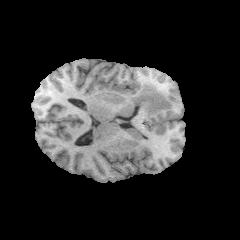glioma: (133, 85, 170, 115)
